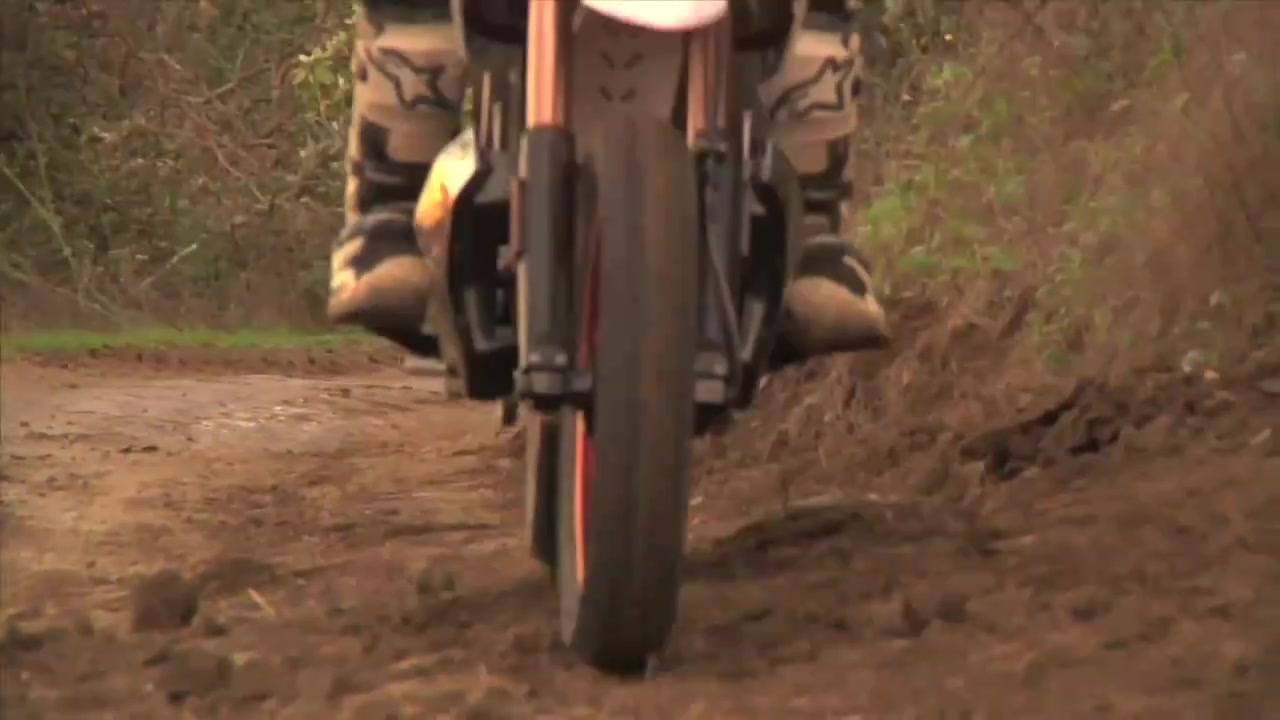motorbike: (416, 1, 799, 679)
